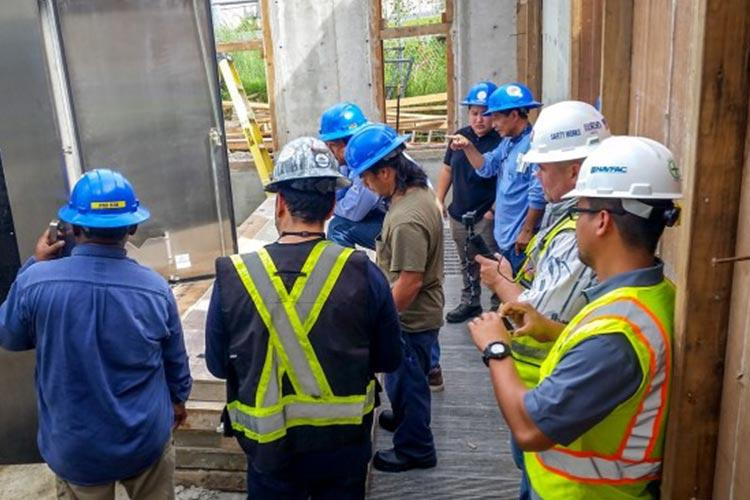helmet: (558, 136, 686, 203), (522, 101, 614, 168), (56, 169, 154, 231), (262, 138, 351, 193), (348, 126, 415, 177), (317, 102, 369, 145), (489, 80, 542, 121), (463, 80, 498, 109)
